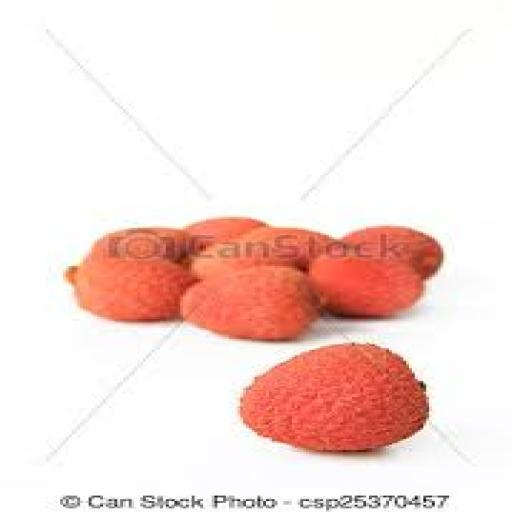lychee: (241, 345, 429, 451), (181, 267, 317, 340), (69, 257, 194, 320), (192, 228, 334, 278), (309, 256, 423, 317), (341, 226, 443, 278), (89, 228, 191, 262), (184, 217, 266, 249)
